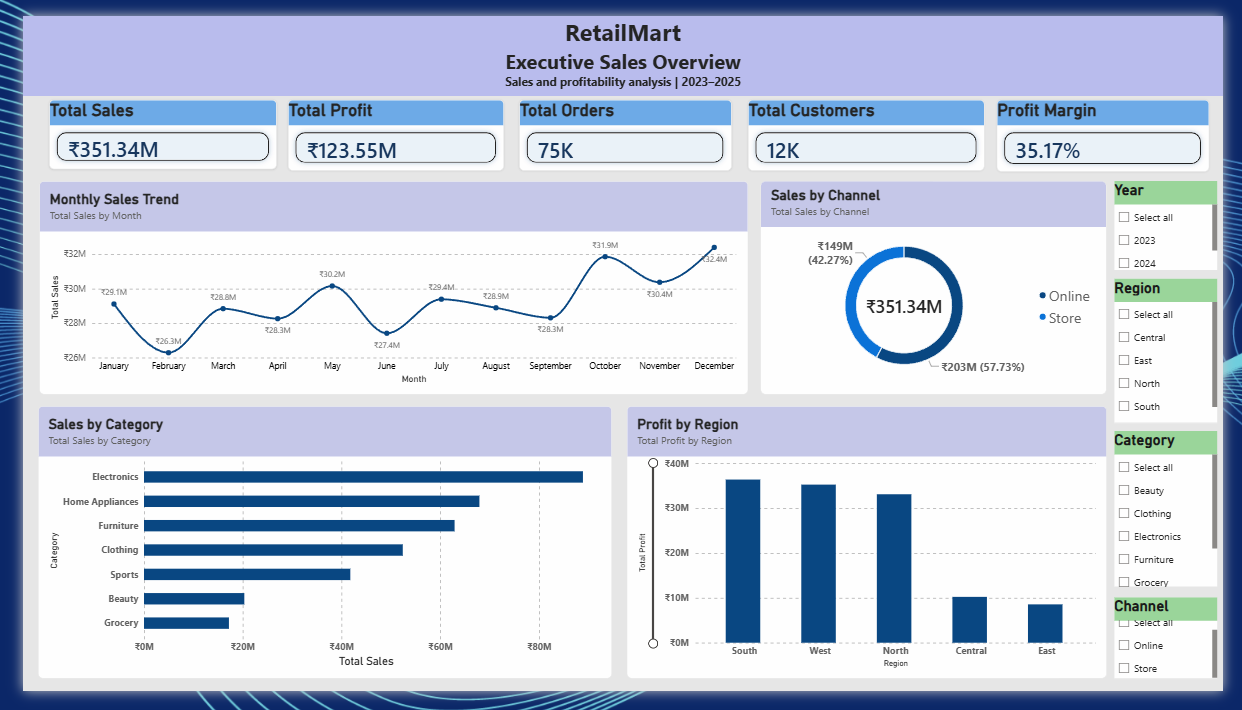

Layout of this report page (visuals, bound fields, positions):
{"tool":"powerbi","page":{"name":"Executive Sales Overview","canvas":[1920,1080],"ordinal":0},"visuals":[{"type":"textbox","box":[0,0,1920.4,127.6],"z":0},{"type":"cardVisual","title":"  Total Sales","fields":{"Data":["Sales_Data.Total Sales"]},"box":[41.2,133.8,364.3,111.1],"z":1000},{"type":"cardVisual","title":"Total Profit","fields":{"Data":["Sales_Data.Total Profit"]},"box":[424,133.8,345.8,113.2],"z":2000},{"type":"cardVisual","title":"Total Orders","fields":{"Data":["Sales_Data.Total Orders"]},"box":[794.5,133.8,339.6,113.2],"z":3000},{"type":"cardVisual","title":"Total Customers","fields":{"Data":["Sales_Data.Total Customers"]},"box":[1160.9,133.8,378.7,113.2],"z":4000},{"type":"cardVisual","title":"Profit Margin","fields":{"Data":["Sales_Data.Profit Margin"]},"box":[1558.2,133.8,339.6,115.3],"z":5000},{"type":"slicer","title":"Year","fields":{"Values":["Sales_Data.Order_Date.Variation.Date Hierarchy.Year"]},"box":[1745.5,263.5,164.7,142],"z":6000},{"type":"slicer","title":"Region","fields":{"Values":["Sales_Data.Region"]},"box":[1745.5,419.9,164.7,230.5],"z":7000},{"type":"slicer","title":"Category","fields":{"Values":["Sales_Data.Category"]},"box":[1745.5,664.8,164.7,249.1],"z":8000},{"type":"slicer","title":"Channel","fields":{"Values":["Sales_Data.Channel"]},"box":[1745.5,930.4,164.7,129.7],"z":9000},{"type":"lineChart","title":"Monthly Sales Trend","fields":{"Category":["Sales_Data.Order_Date.Variation.Date Hierarchy.Month"],"Y":["Sales_Data.Total Sales"]},"box":[26.8,263.5,1134.1,341.7],"z":10000},{"type":"clusteredBarChart","title":"Sales by Category","fields":{"Category":["Sales_Data.Category"],"Y":["Sales_Data.Total Sales"]},"box":[24.7,623.7,918,436.4],"z":11000},{"type":"clusteredColumnChart","title":"Profit by Region","fields":{"Category":["Sales_Data.Region"],"Y":["Sales_Data.Total Profit"]},"box":[965.4,623.7,767.8,436.4],"z":12000},{"type":"donutChart","title":"Sales by Channel","fields":{"Category":["Sales_Data.Channel"],"Y":["Sales_Data.Total Sales"]},"box":[1179.4,263.5,553.7,341.7],"z":13000}]}

Visuals, with their boxes in screenshot pixels (x1, y1, x2, y2), scaled from the page's 1920x1080 canvas onto the 1242x710 screenshot:
textbox: rect(0, 0, 1241, 84)
"  Total Sales" cardVisual: rect(27, 88, 262, 161)
"Total Profit" cardVisual: rect(274, 88, 498, 162)
"Total Orders" cardVisual: rect(514, 88, 734, 162)
"Total Customers" cardVisual: rect(751, 88, 996, 162)
"Profit Margin" cardVisual: rect(1008, 88, 1228, 164)
"Year" slicer: rect(1129, 173, 1236, 267)
"Region" slicer: rect(1129, 276, 1236, 428)
"Category" slicer: rect(1129, 437, 1236, 601)
"Channel" slicer: rect(1129, 612, 1236, 697)
"Monthly Sales Trend" lineChart: rect(17, 173, 751, 398)
"Sales by Category" clusteredBarChart: rect(16, 410, 610, 697)
"Profit by Region" clusteredColumnChart: rect(624, 410, 1121, 697)
"Sales by Channel" donutChart: rect(763, 173, 1121, 398)
